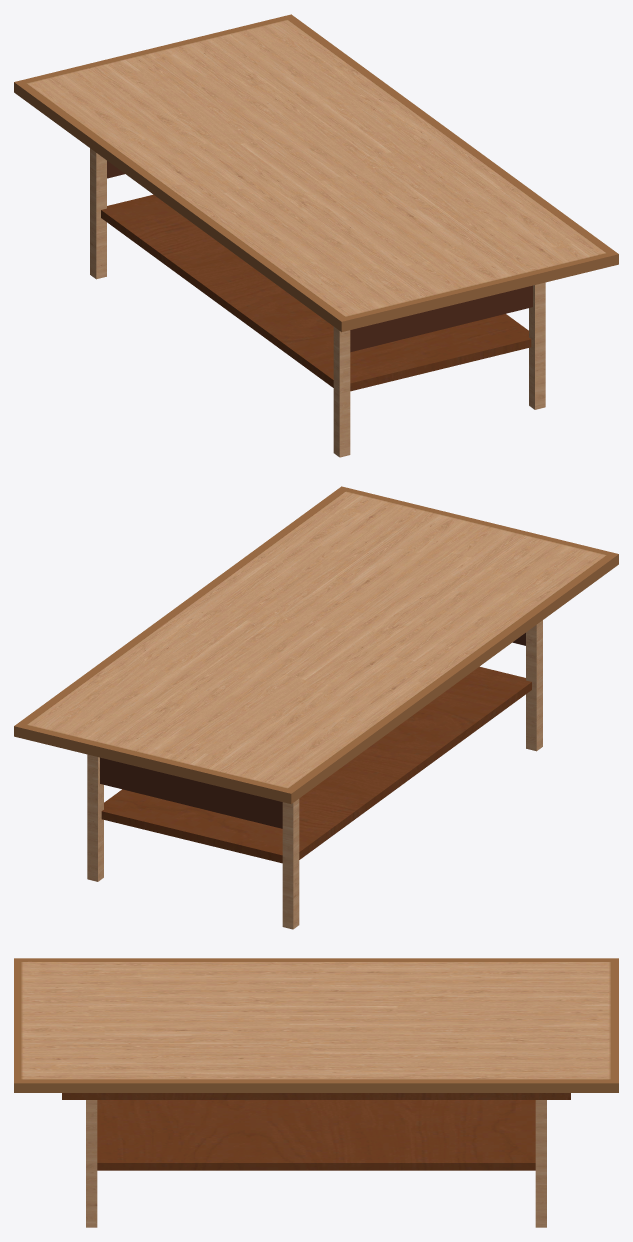
The model's file is Table_Coffee.fbx.
The picture shows the model from 3 angles, top to bottom: view 1: azimuth 30°, elevation 25°; view 2: azimuth 150°, elevation 25°; view 3: azimuth 270°, elevation 25°; orthographic projection. The views are drawn at different scales.
Visible parts, largest first — view 1: Coffee_Table; view 2: Coffee_Table; view 3: Coffee_Table.
Part boxes in pixels (x1,y1,x2,y2): Coffee_Table: [14, 14, 618, 457]; Coffee_Table: [14, 486, 618, 929]; Coffee_Table: [14, 958, 618, 1227].
Size of the model in its own units: 88.63 by 52.92 by 181.
